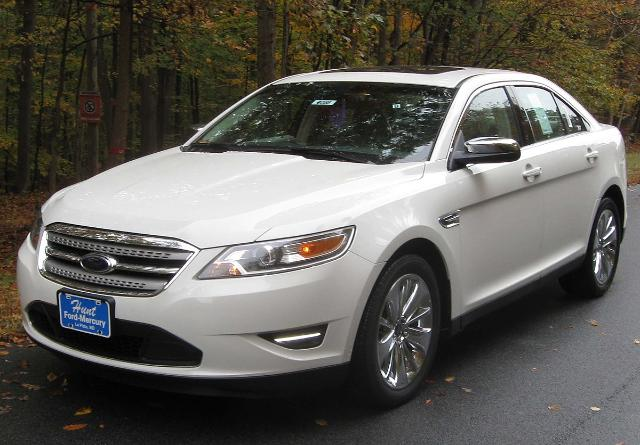ford: (16, 64, 628, 406)
